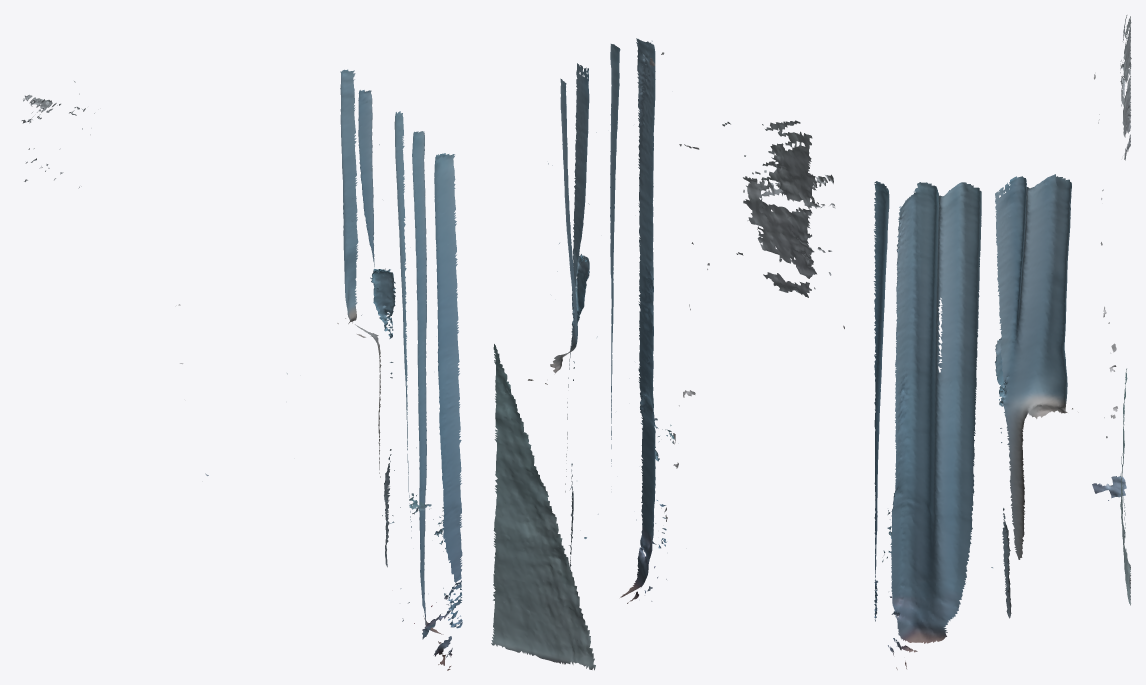
The model's file is apartment-full-11-793758a21929.glb.
The picture shows the model from 3 angles, left to right: view 1: azimuth 30°, elevation 25°; view 2: azimuth 150°, elevation 25°; view 3: azimuth 270°, elevation 25°; orthographic projection. The views are drawn at different scales.
Bounding box in the file's own units: 1.2 × 2.25 × 0.957.
